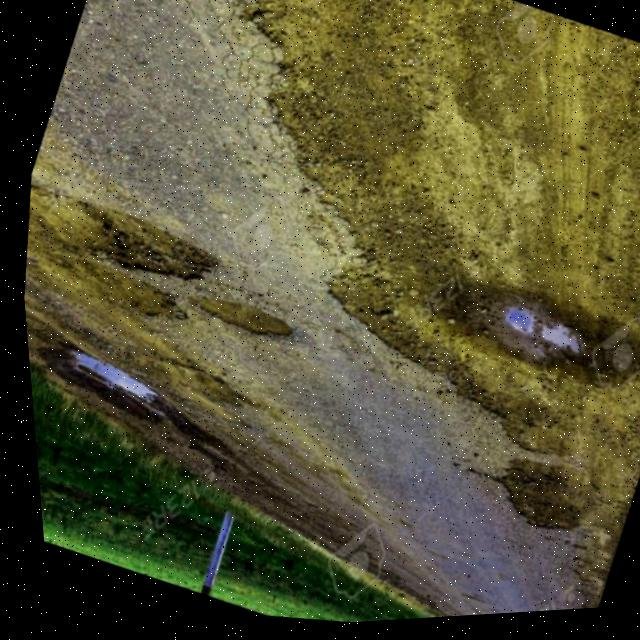Pothole: (273, 148, 640, 481), (59, 195, 223, 303), (469, 452, 583, 565), (177, 290, 287, 364)
